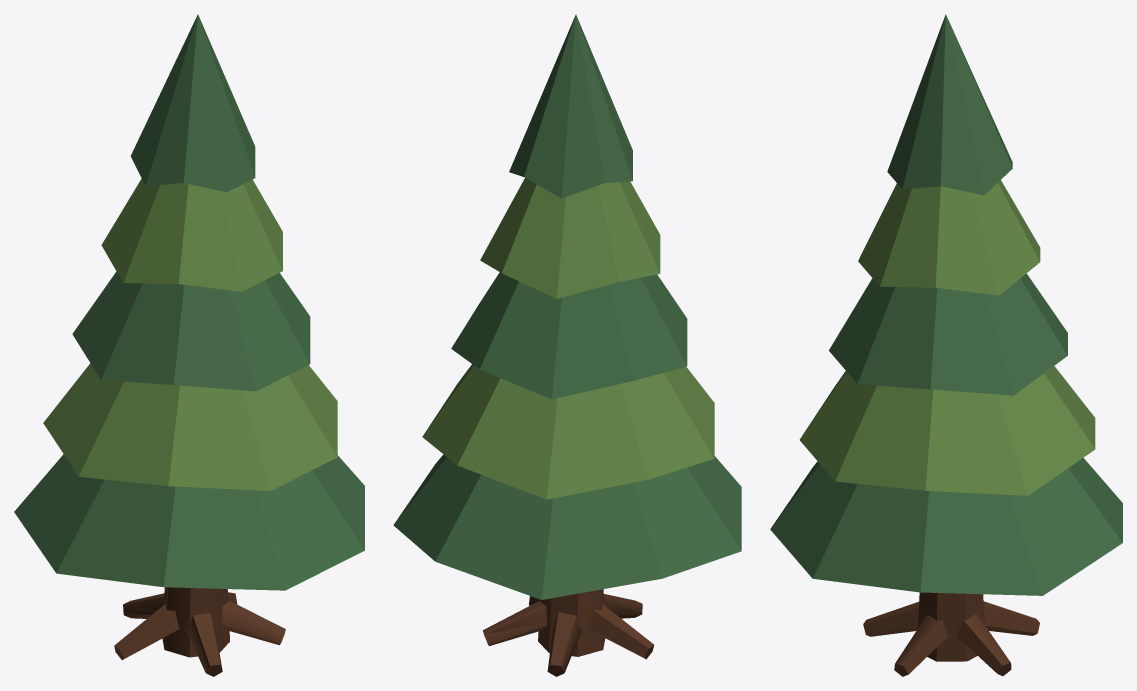
Rendered from 02_pine.fbx.
3 views of the same model, side by side, from view 1: azimuth 30°, elevation 25°; view 2: azimuth 150°, elevation 25°; view 3: azimuth 270°, elevation 25° (orthographic).
Visible parts, largest first — view 1: 02_pine; view 2: 02_pine; view 3: 02_pine.
Part boxes in pixels (left/top/right/bottom): 02_pine: left=14, top=14, right=364, bottom=676; 02_pine: left=393, top=14, right=741, bottom=676; 02_pine: left=770, top=14, right=1122, bottom=676.
Size of the model in its own units: 2.32 by 4.54 by 2.29.
Materials: 1 (1 with a texture image).
